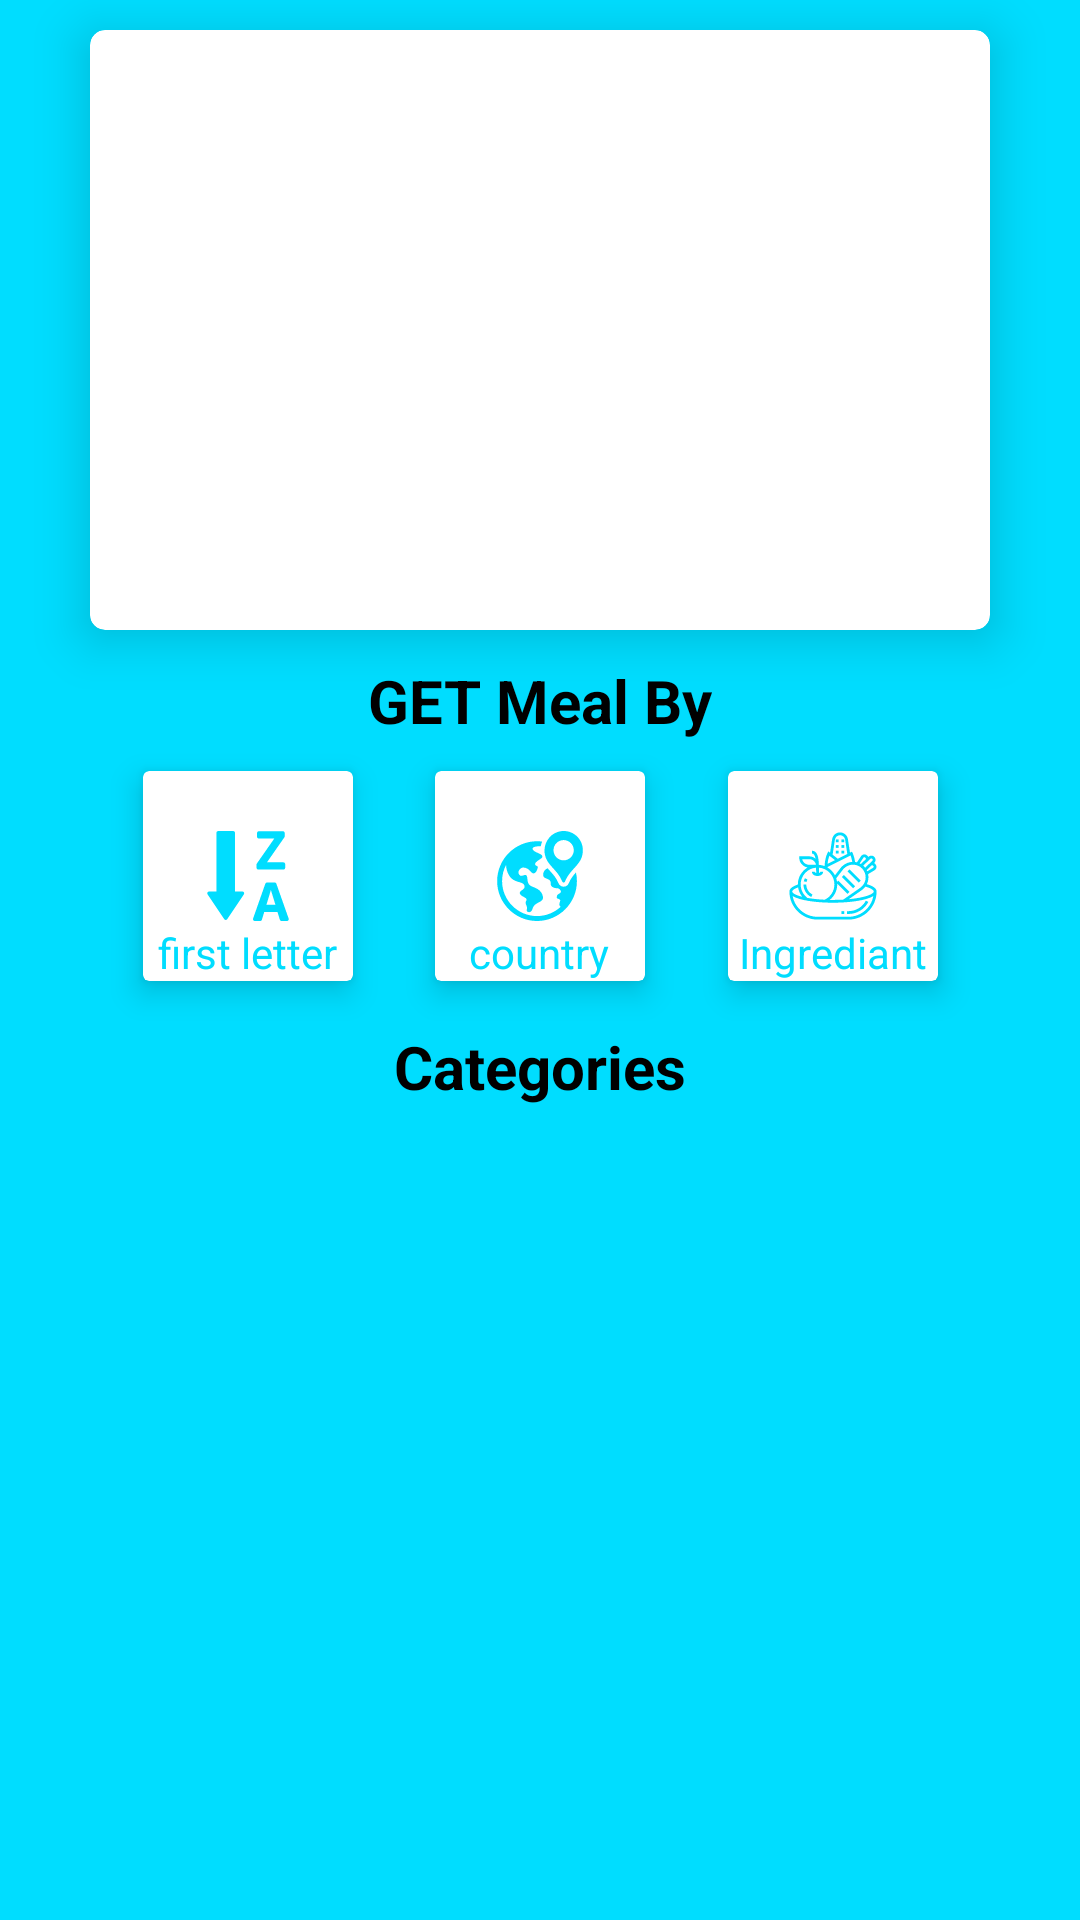

Named icons in this screenshot (1080w x 1920h) and their centers, (x,y):
sort: (248,876)
